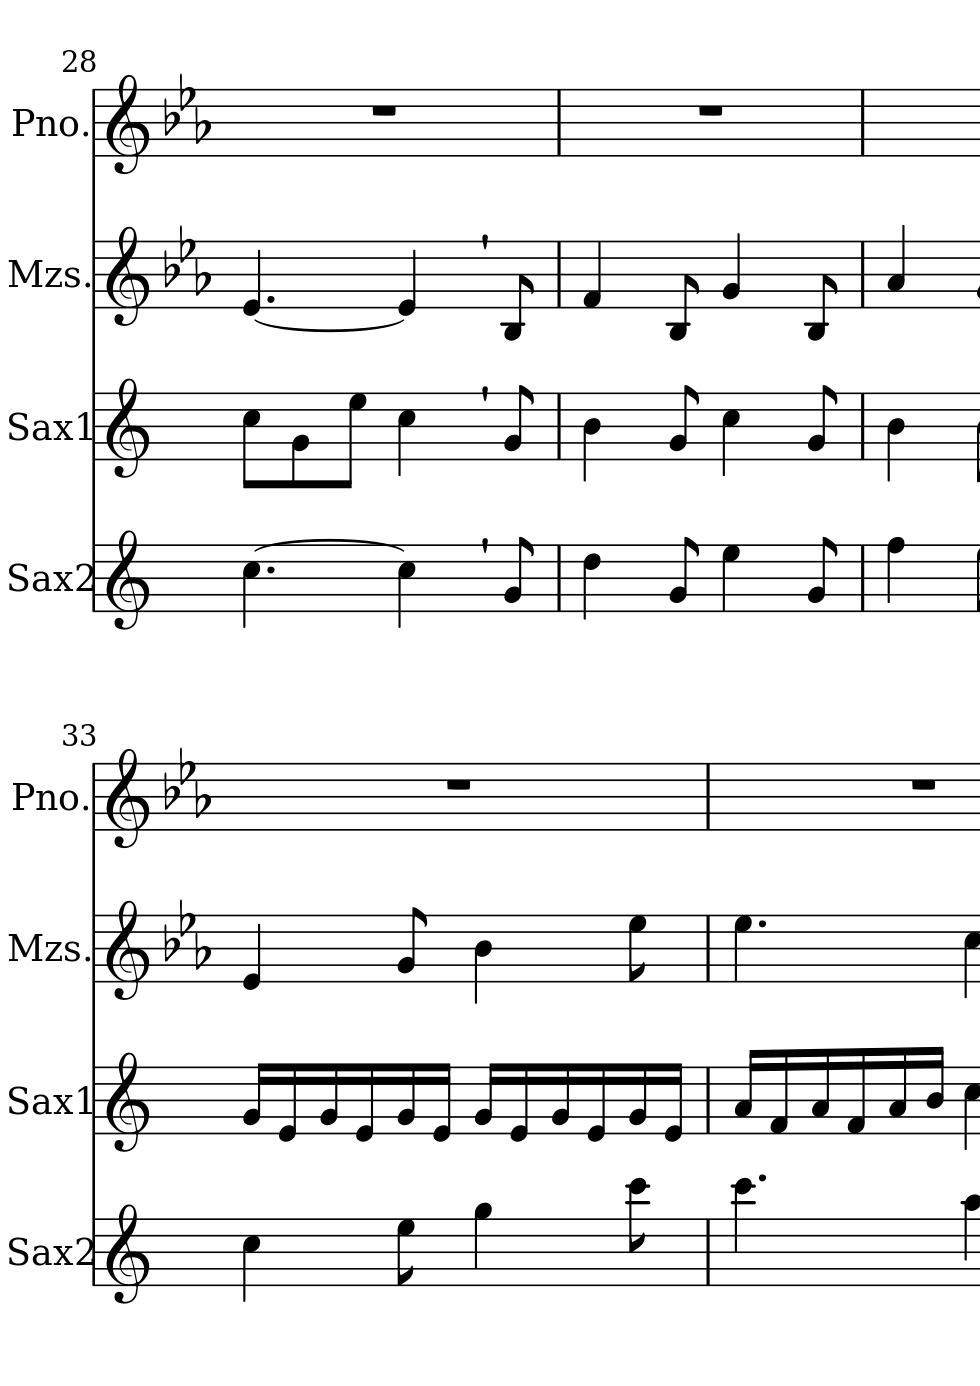16_0: (660, 1062, 685, 1143), (275, 1062, 299, 1144), (506, 1062, 530, 1144), (430, 1062, 453, 1144), (353, 1062, 375, 1143), (585, 1062, 607, 1144)
16_1: (767, 1047, 789, 1136), (845, 1046, 867, 1136)
16_2: (239, 1062, 269, 1136), (471, 1060, 500, 1136), (626, 1060, 649, 1136), (317, 1062, 340, 1135), (549, 1062, 572, 1136), (395, 1062, 417, 1135)
16_3: (732, 1047, 759, 1135), (886, 1045, 909, 1135), (809, 1047, 832, 1135)
16_4: (924, 1045, 946, 1136)
2: (60, 48, 78, 75)
3: (78, 722, 97, 750), (62, 721, 78, 749)
4_0: (395, 238, 418, 319), (240, 239, 263, 318), (240, 913, 263, 992)
4_1: (580, 239, 603, 310)
4_10: (959, 1193, 980, 1287)
4_12: (729, 1177, 757, 1289)
4_2: (721, 230, 742, 310)
4_3: (885, 224, 907, 309)
4_4: (471, 912, 493, 1007), (580, 391, 602, 483), (883, 391, 906, 483)
4_5: (239, 1216, 262, 1305), (719, 391, 741, 479), (240, 543, 261, 631), (395, 543, 416, 631), (396, 391, 416, 479), (961, 1065, 980, 1153), (960, 916, 979, 1003)
4_6: (580, 543, 602, 621)
4_7: (731, 913, 755, 985), (718, 542, 742, 613)
4_8: (883, 536, 906, 614)
4_9: (471, 1201, 493, 1287)
8: (78, 47, 97, 75)
8_-3: (501, 239, 533, 343), (666, 239, 699, 343), (805, 240, 837, 343)
8_12: (625, 1176, 652, 1289)
8_2: (666, 536, 699, 613), (804, 536, 836, 614), (501, 536, 532, 613), (395, 906, 426, 983), (502, 384, 532, 462), (805, 383, 836, 461), (667, 383, 698, 460), (288, 391, 310, 490)
8_5: (240, 390, 261, 492)
8_7: (334, 391, 367, 491), (626, 913, 648, 985), (395, 1217, 416, 1288)
E_F: (161, 71, 213, 145), (162, 223, 212, 297), (162, 745, 212, 820), (162, 899, 212, 971)
Gclef: (104, 898, 151, 1003), (104, 376, 151, 480), (104, 1050, 151, 1154), (105, 71, 151, 176), (105, 745, 151, 850), (104, 225, 150, 327), (105, 1201, 150, 1305), (105, 529, 150, 632)
Pno: (11, 780, 81, 815), (11, 107, 81, 141)
Rests1: (906, 775, 940, 793), (367, 101, 400, 119), (694, 101, 727, 119), (442, 775, 475, 793)
Sax: (1, 1081, 77, 1125), (2, 1232, 77, 1273), (3, 408, 76, 448), (3, 560, 77, 598)
Single_barline: (854, 545, 872, 611), (550, 545, 568, 610), (699, 764, 716, 830), (700, 915, 717, 981), (699, 1067, 716, 1133), (550, 393, 567, 458), (854, 393, 871, 458), (89, 1218, 105, 1287), (854, 90, 870, 156), (550, 241, 566, 306), (854, 242, 870, 306), (700, 1220, 716, 1284), (87, 89, 102, 158), (87, 241, 102, 310), (89, 393, 104, 462), (89, 544, 104, 613), (87, 764, 102, 832), (89, 1067, 104, 1135), (552, 90, 566, 155), (88, 915, 102, 984)
dot: (263, 563, 276, 578), (755, 917, 768, 931), (264, 292, 276, 306), (756, 1172, 768, 1185)
